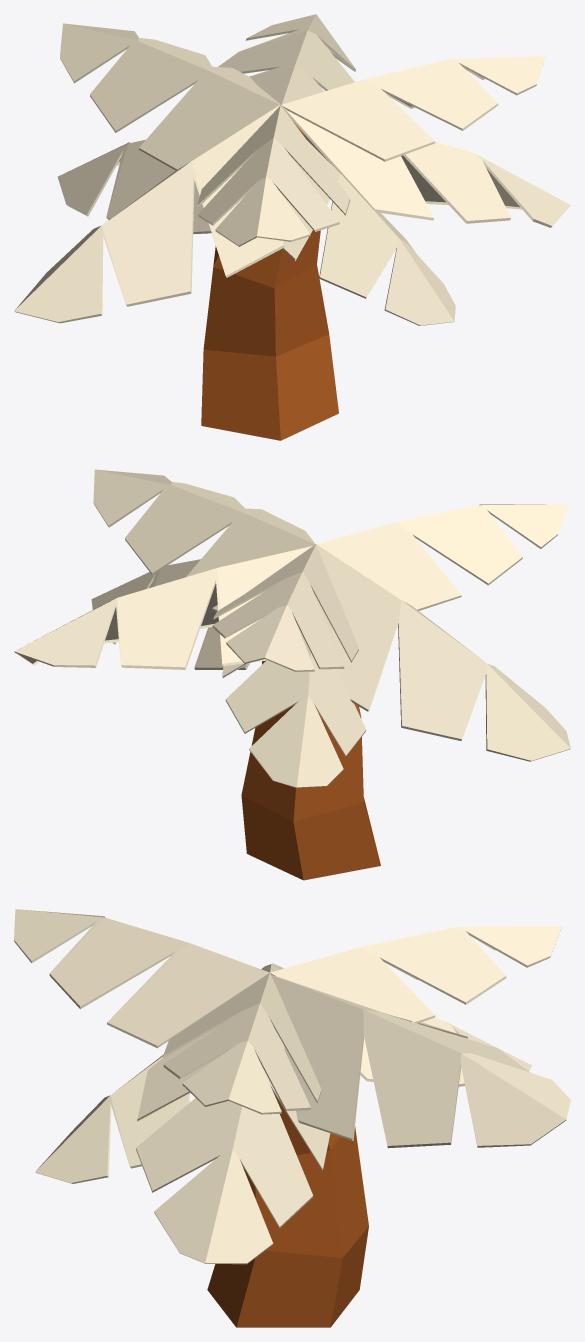
The model's file is Tree_11_Winter.fbx.
3 renders of one model, top to bottom at view 1: azimuth 30°, elevation 25°; view 2: azimuth 150°, elevation 25°; view 3: azimuth 270°, elevation 25°, orthographic. The views are drawn at different scales.
Parts seen in each view (by area): view 1: Tree_11_p2_Winter, Tree_11_p1_Winter; view 2: Tree_11_p2_Winter, Tree_11_p1_Winter; view 3: Tree_11_p2_Winter, Tree_11_p1_Winter.
Boxes of the visible parts, bbox=[...] form: Tree_11_p2_Winter: bbox=[14, 14, 570, 325]; Tree_11_p1_Winter: bbox=[201, 122, 338, 440]; Tree_11_p2_Winter: bbox=[14, 469, 570, 787]; Tree_11_p1_Winter: bbox=[241, 660, 380, 880]; Tree_11_p2_Winter: bbox=[14, 909, 570, 1264]; Tree_11_p1_Winter: bbox=[207, 1092, 368, 1327].
Bounding box in the file's own units: 335 × 197 × 285.
